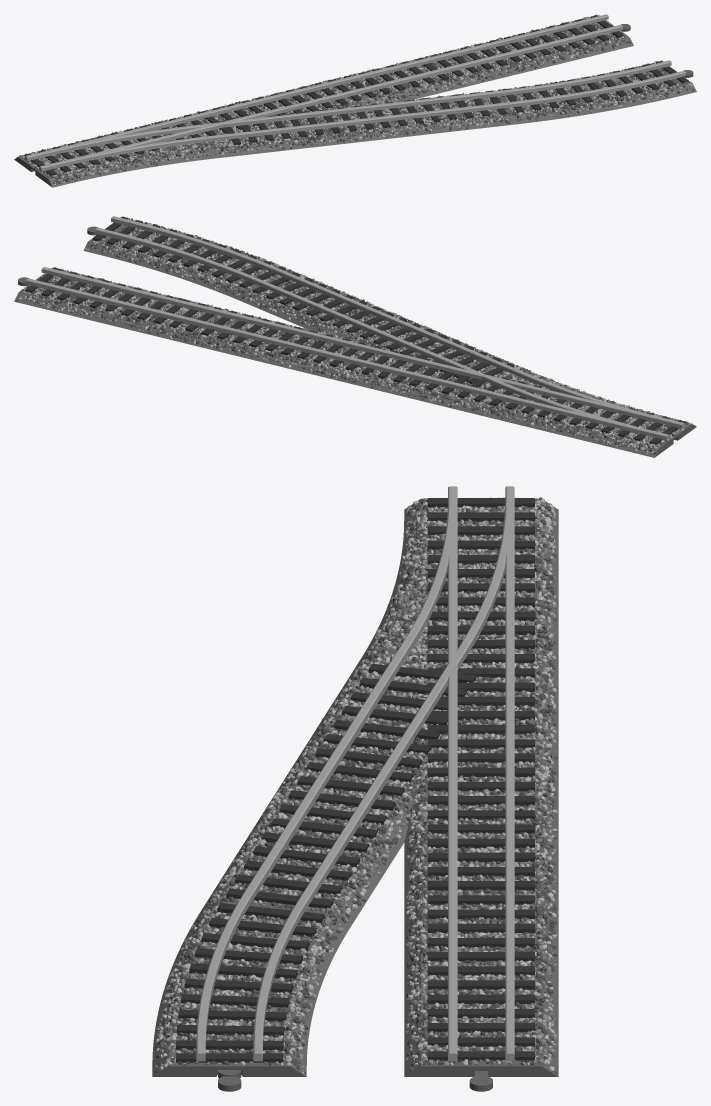
File: Rail_Siding_Right_075.obj
3 views of the same model, one above another, from view 1: azimuth 30°, elevation 25°; view 2: azimuth 150°, elevation 25°; view 3: azimuth 270°, elevation 25° (orthographic). The views are drawn at different scales.
Visible parts, largest first — view 1: Rail_Siding_Right_075; view 2: Rail_Siding_Right_075; view 3: Rail_Siding_Right_075.
Part boxes in pixels (box(x1,y1,x2,y2)): Rail_Siding_Right_075: box(14, 14, 696, 187); Rail_Siding_Right_075: box(14, 216, 696, 457); Rail_Siding_Right_075: box(152, 486, 558, 1091).
Size of the model in its own units: 4.1 by 0.0813 by 1.21.
Materials: 1 (1 with a texture image).
